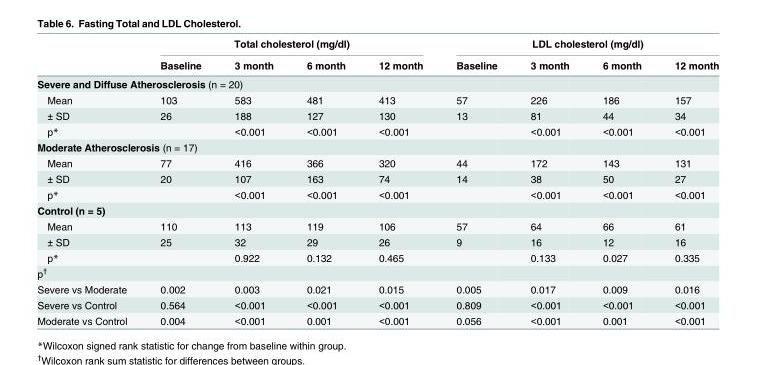table: (36, 37, 718, 326)
table column: (36, 37, 142, 326), (361, 37, 438, 326), (142, 37, 217, 326), (438, 37, 513, 326), (217, 37, 289, 326), (289, 37, 361, 326), (513, 37, 585, 326), (585, 37, 657, 326), (657, 37, 718, 326)
table column header: (36, 37, 718, 74)
table projected row header: (36, 74, 718, 91), (36, 265, 718, 281), (36, 139, 718, 154), (36, 202, 718, 217)
table row: (36, 53, 718, 74), (36, 74, 718, 91), (36, 37, 718, 53), (36, 91, 718, 107), (36, 107, 718, 123), (36, 123, 718, 139), (36, 154, 718, 170), (36, 170, 718, 186), (36, 186, 718, 202), (36, 217, 718, 233), (36, 233, 718, 249), (36, 249, 718, 265), (36, 265, 718, 281), (36, 296, 718, 312), (36, 139, 718, 154), (36, 202, 718, 217), (36, 281, 718, 296), (36, 312, 718, 326)
table spanning cell: (142, 37, 438, 53), (438, 37, 718, 53)
